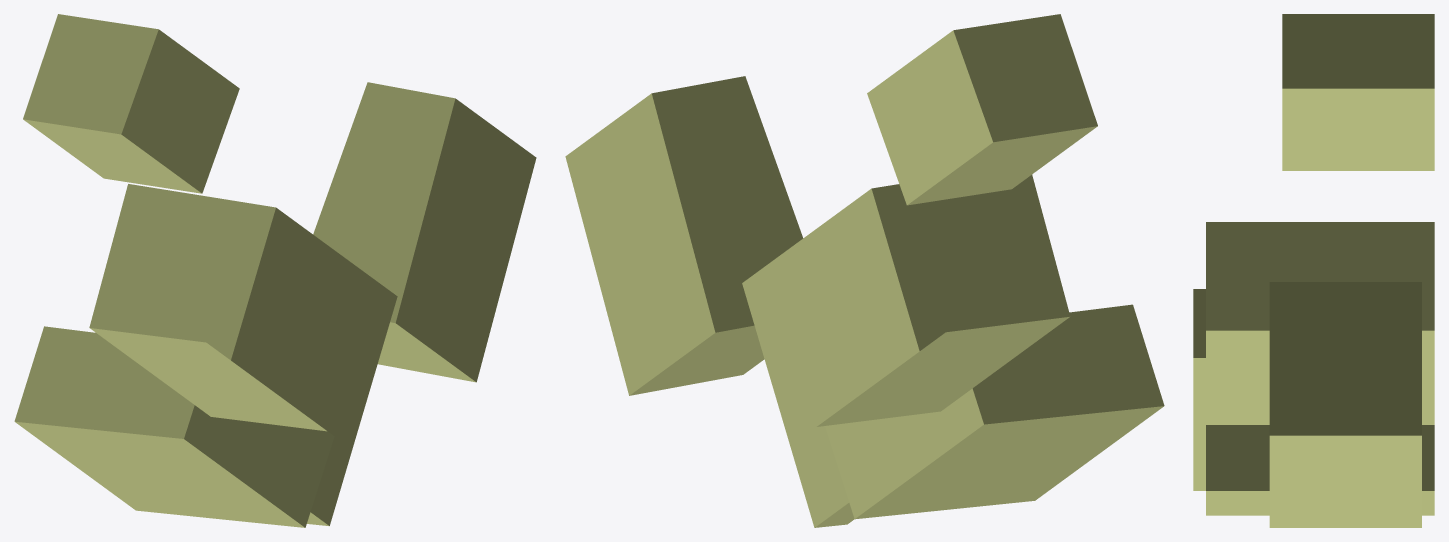
3 views of the same model, side by side, from view 1: azimuth 30°, elevation 25°; view 2: azimuth 150°, elevation 25°; view 3: azimuth 270°, elevation 25° (orthographic). The views are drawn at different scales.
Parts seen in each view (by area): view 1: 0_1_0_0_1_0_0_3_3_2; view 2: 0_1_0_0_1_0_0_3_3_2; view 3: 0_1_0_0_1_0_0_3_3_2.
Part boxes in pixels (box(x1,y1,x2,y2)): 0_1_0_0_1_0_0_3_3_2: box(14, 14, 536, 527); 0_1_0_0_1_0_0_3_3_2: box(565, 14, 1164, 527); 0_1_0_0_1_0_0_3_3_2: box(1193, 14, 1434, 527).
Bounding box in the file's own units: 18.86 × 18.79 × 9.5.
